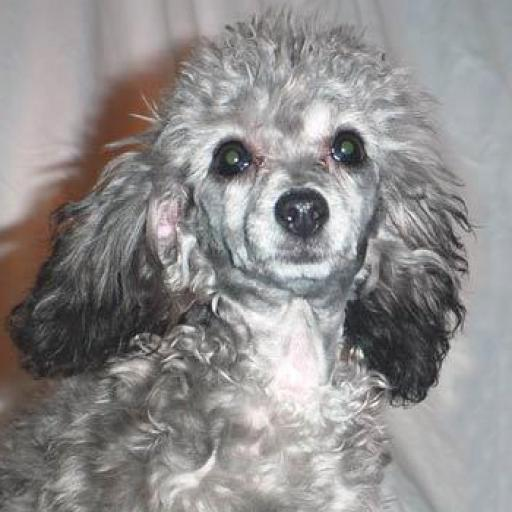dog_face: (168, 42, 403, 300)
